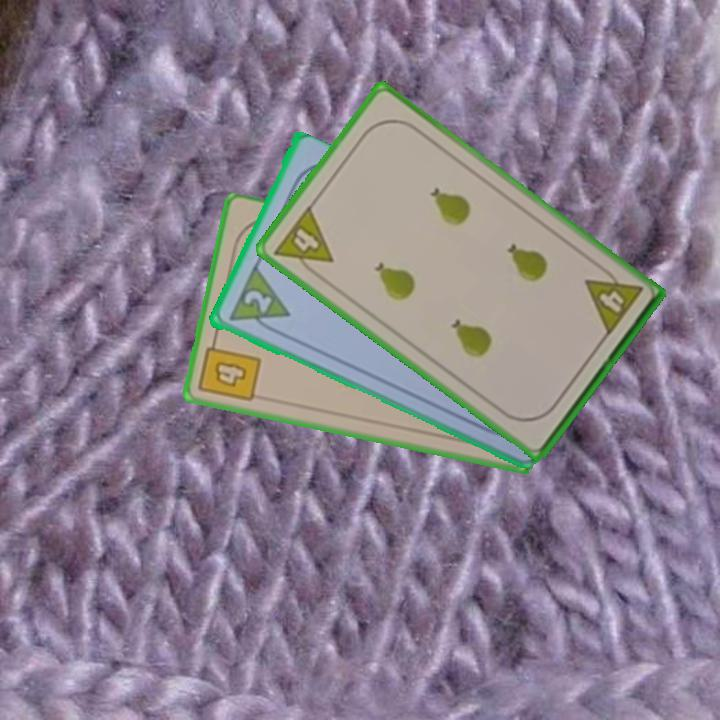2p: (239, 286, 275, 317)
4b: (195, 333, 264, 406)
4p: (269, 202, 336, 282), (581, 261, 645, 339)
